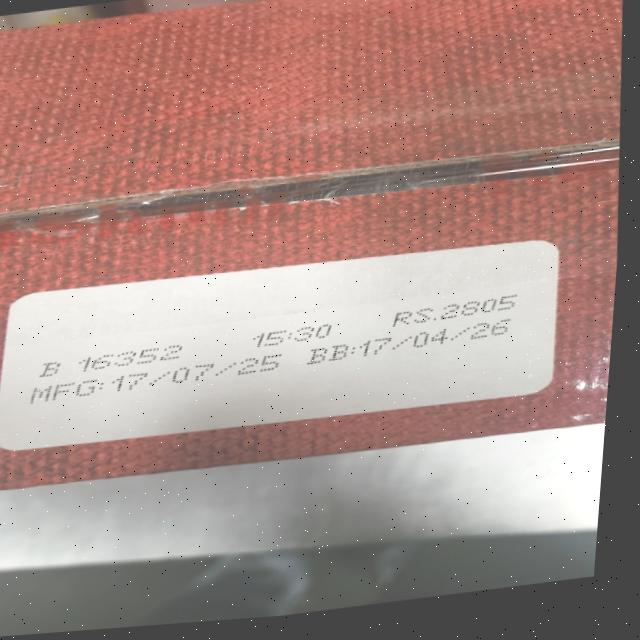BB: (310, 318, 520, 364)
Batch: (39, 344, 189, 377)
MFG: (31, 353, 286, 404)
RS: (389, 294, 519, 327)
TimeStamp: (251, 324, 338, 348)
